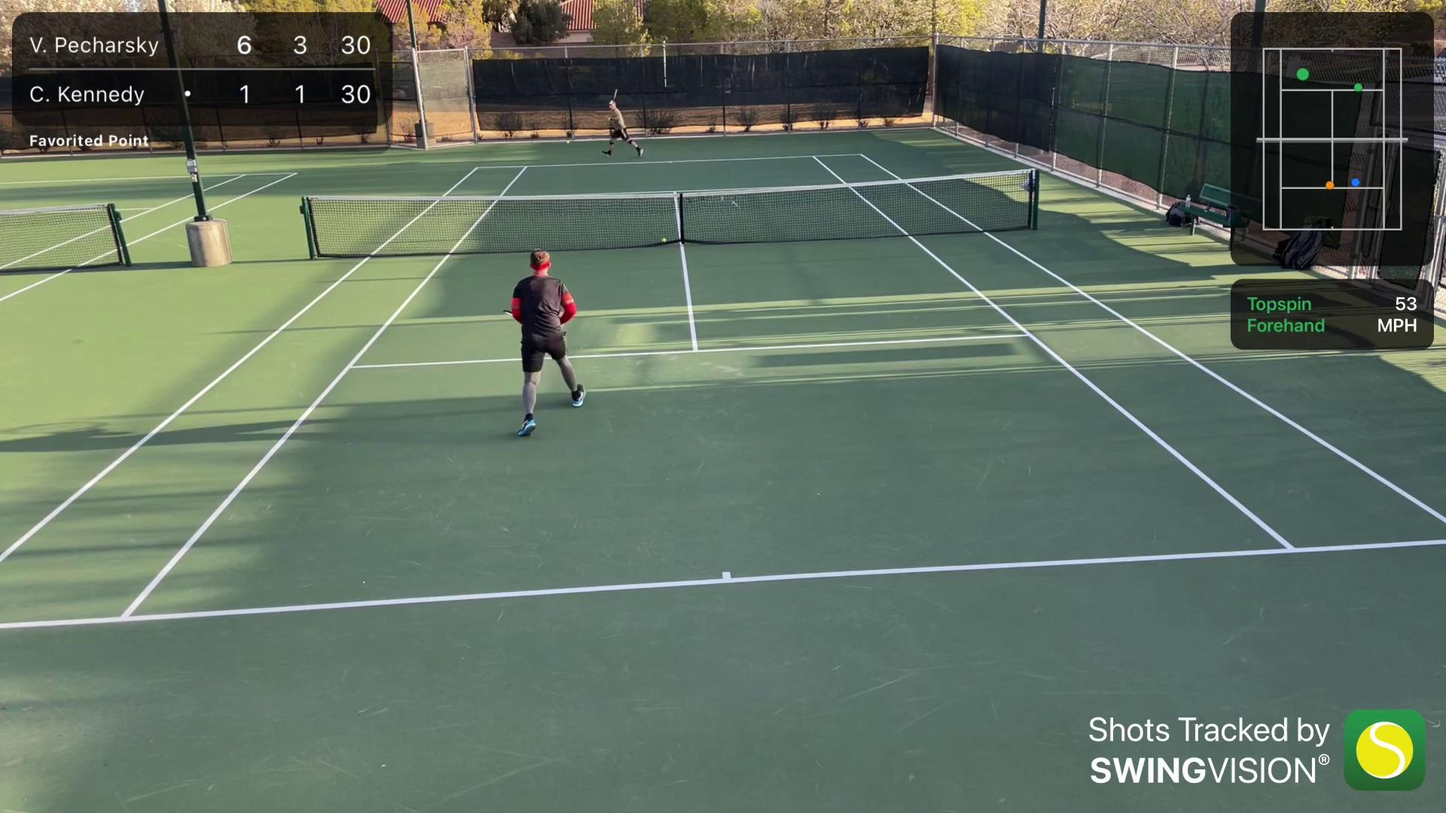ball: (659, 236, 667, 243), (565, 139, 571, 145)
